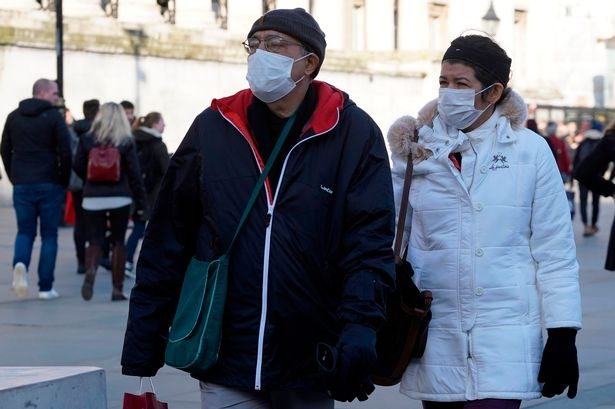with_mask: (236, 23, 317, 102), (432, 57, 498, 125)
